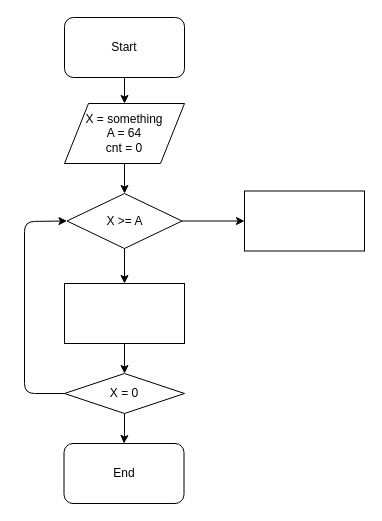
The diagram is 382 pixels wide and 521 high, and some of its shapes have lost their labels. The centre of each missing label's shape, as x and y in pixels:
"A /= 2" belongs at [304,220].
"X -= A cnt += 1" belongs at [124,313].
